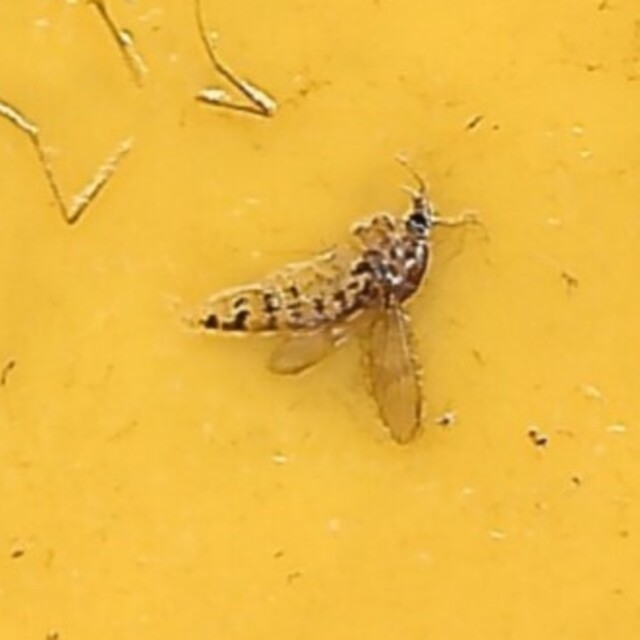Nematocera: (193, 197, 447, 443)
